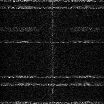wifi: (1, 5, 104, 9), (1, 27, 104, 31), (1, 100, 104, 103), (1, 83, 104, 86), (1, 76, 104, 79), (1, 41, 104, 44), (1, 1, 104, 2)
